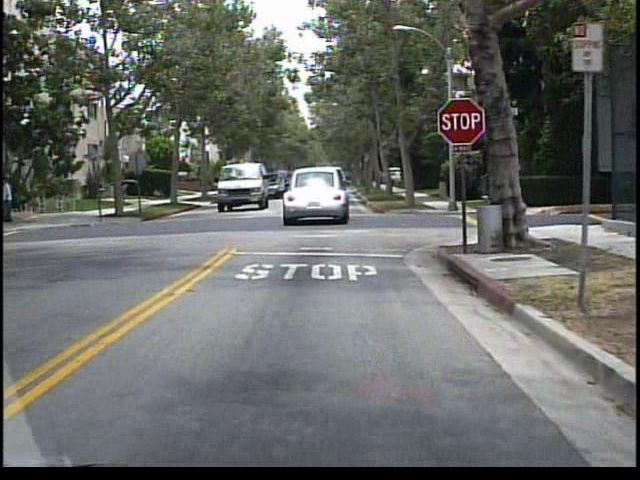person: (5, 170, 19, 225)
